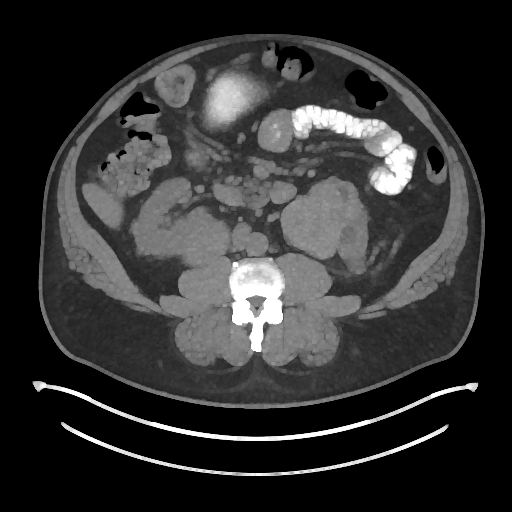Lesion: (281, 197, 348, 262)
